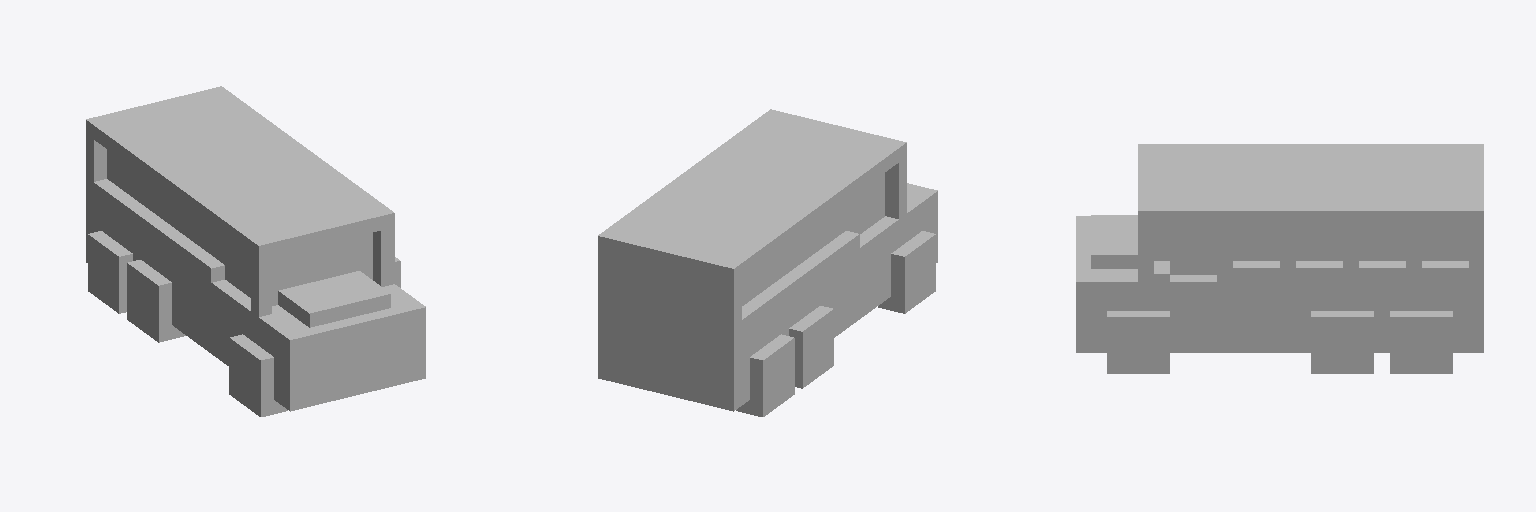
The model's file is Voxel Design (Cars)-3.obj.
3 renders of one model, left to right at view 1: azimuth 30°, elevation 25°; view 2: azimuth 150°, elevation 25°; view 3: azimuth 270°, elevation 25°, orthographic.
Visible parts, largest first — view 1: object 1; view 2: object 1; view 3: object 1.
Boxes of the visible parts, <box> form: object 1: <box>86,86,425,416</box>; object 1: <box>598,109,937,416</box>; object 1: <box>1076,144,1483,373</box>.
Bounding box in the file's own units: 1.2 × 1.1 × 2.6.